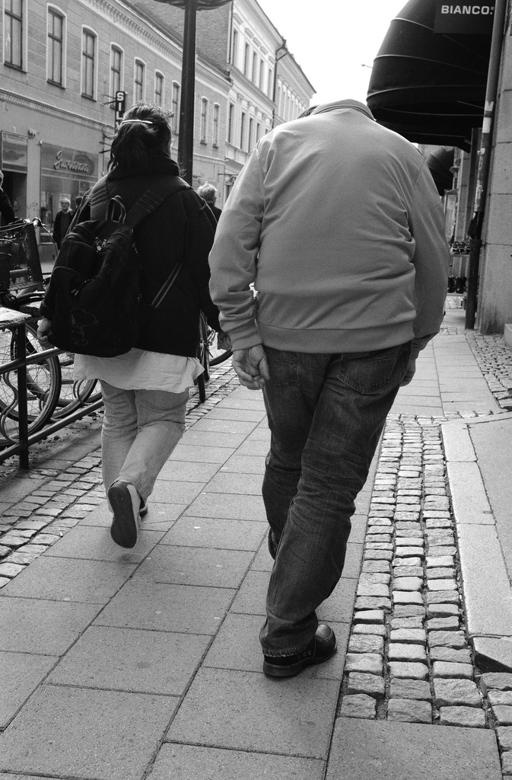non-vehicle: (2, 294, 99, 424), (2, 322, 64, 454), (194, 308, 233, 404)
